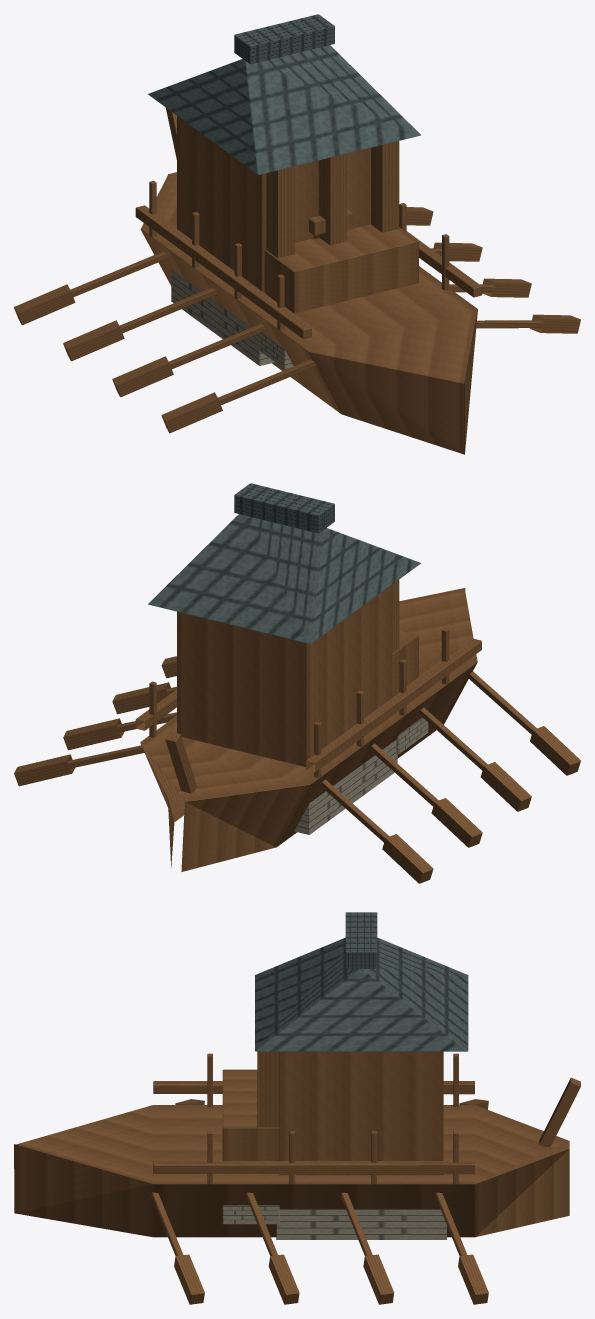
The model's file is unit-TOWER_SHIP-lod0.glb.
3 views of the same model, one above another, from view 1: azimuth 30°, elevation 25°; view 2: azimuth 150°, elevation 25°; view 3: azimuth 270°, elevation 25° (orthographic). The views are drawn at different scales.
Bounding box in the file's own units: 0.7331 × 0.492 × 0.8985.
Materials: 1 (1 with a texture image).
